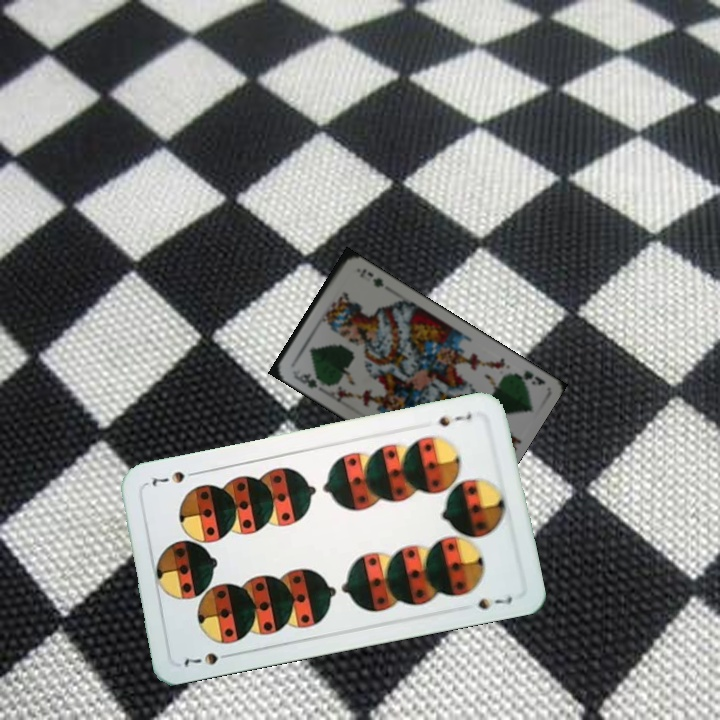GK: (508, 366, 548, 388), (291, 368, 320, 391)
S7: (180, 648, 236, 670), (435, 409, 475, 429)
